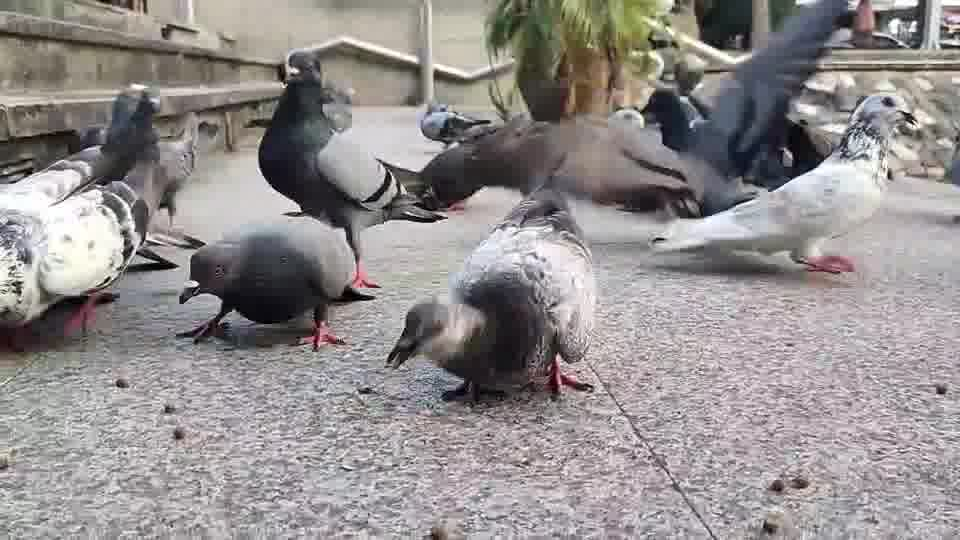Pigeon: (645, 92, 919, 274), (252, 49, 448, 290), (383, 194, 598, 406), (0, 83, 163, 336), (374, 106, 705, 218), (175, 216, 375, 351), (416, 100, 492, 149)
